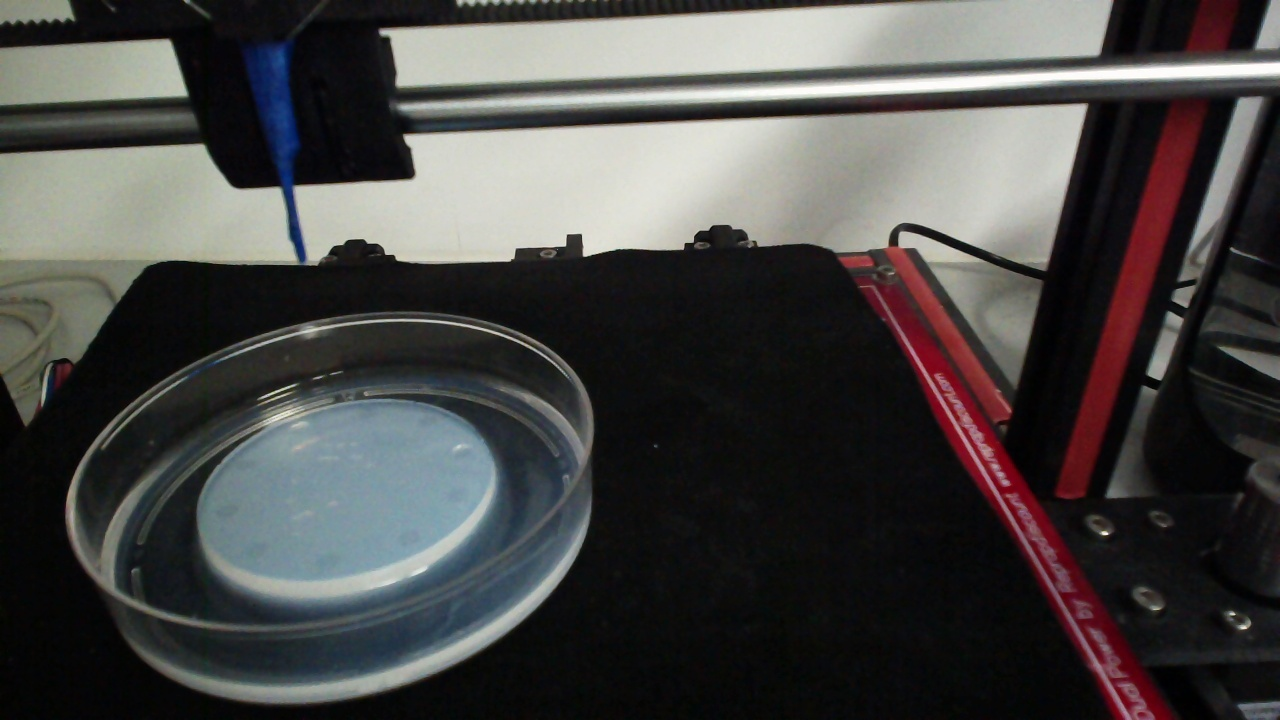groove: (441, 483, 472, 506), (312, 551, 343, 572), (396, 526, 421, 549), (240, 538, 270, 557), (450, 442, 475, 463), (353, 404, 380, 423), (211, 500, 239, 518), (417, 414, 442, 431), (236, 455, 260, 471), (288, 420, 309, 438)
needle: (249, 48, 308, 264)
